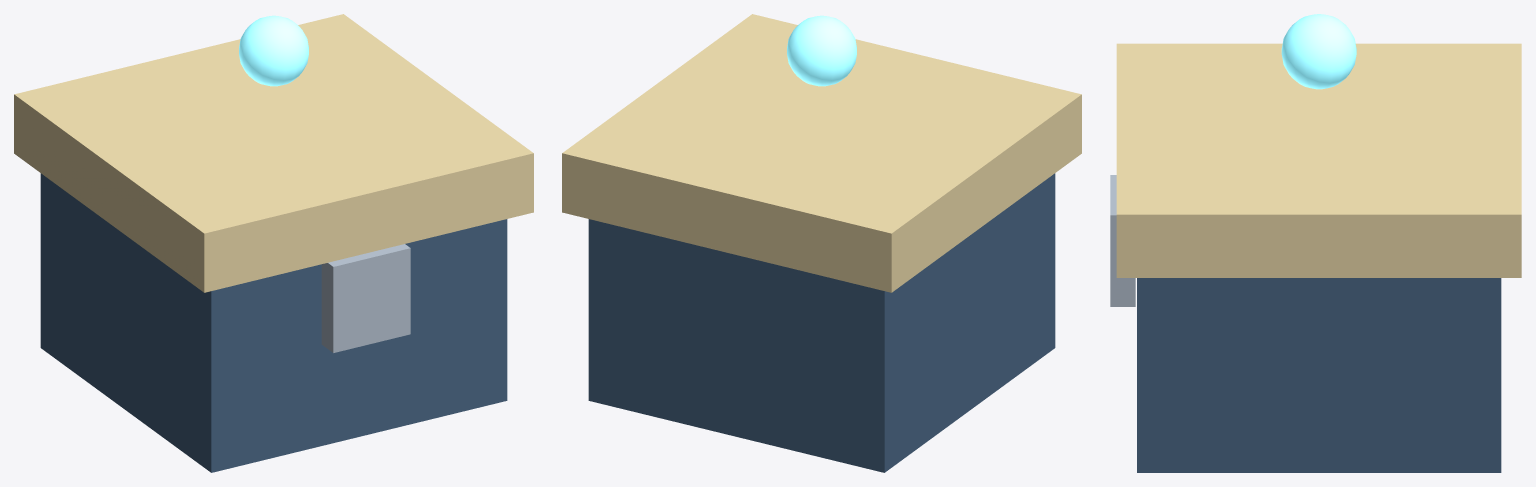
File: treasure-data-crate.glb
3 views of the same model, side by side, from view 1: azimuth 30°, elevation 25°; view 2: azimuth 150°, elevation 25°; view 3: azimuth 270°, elevation 25° (orthographic). The views are drawn at different scales.
Visible parts, largest first — view 1: treasure-data-crate-crate-lid, treasure-data-crate-crate-base, treasure-data-crate-front-lock, treasure-data-crate-data-orb; view 2: treasure-data-crate-crate-lid, treasure-data-crate-crate-base, treasure-data-crate-data-orb; view 3: treasure-data-crate-crate-lid, treasure-data-crate-crate-base, treasure-data-crate-data-orb, treasure-data-crate-front-lock.
Boxes of the visible parts, x1,y1,x2,y2 form: treasure-data-crate-crate-lid: [14, 14, 533, 292]; treasure-data-crate-crate-base: [40, 173, 507, 472]; treasure-data-crate-front-lock: [321, 244, 410, 352]; treasure-data-crate-data-orb: [239, 15, 308, 86]; treasure-data-crate-crate-lid: [562, 14, 1081, 292]; treasure-data-crate-crate-base: [588, 173, 1055, 472]; treasure-data-crate-data-orb: [787, 15, 856, 86]; treasure-data-crate-crate-lid: [1116, 43, 1521, 277]; treasure-data-crate-crate-base: [1137, 278, 1501, 472]; treasure-data-crate-data-orb: [1281, 14, 1356, 89]; treasure-data-crate-front-lock: [1110, 175, 1135, 306].
Size of the model in its own units: 1.28 by 1.32 by 1.3.
